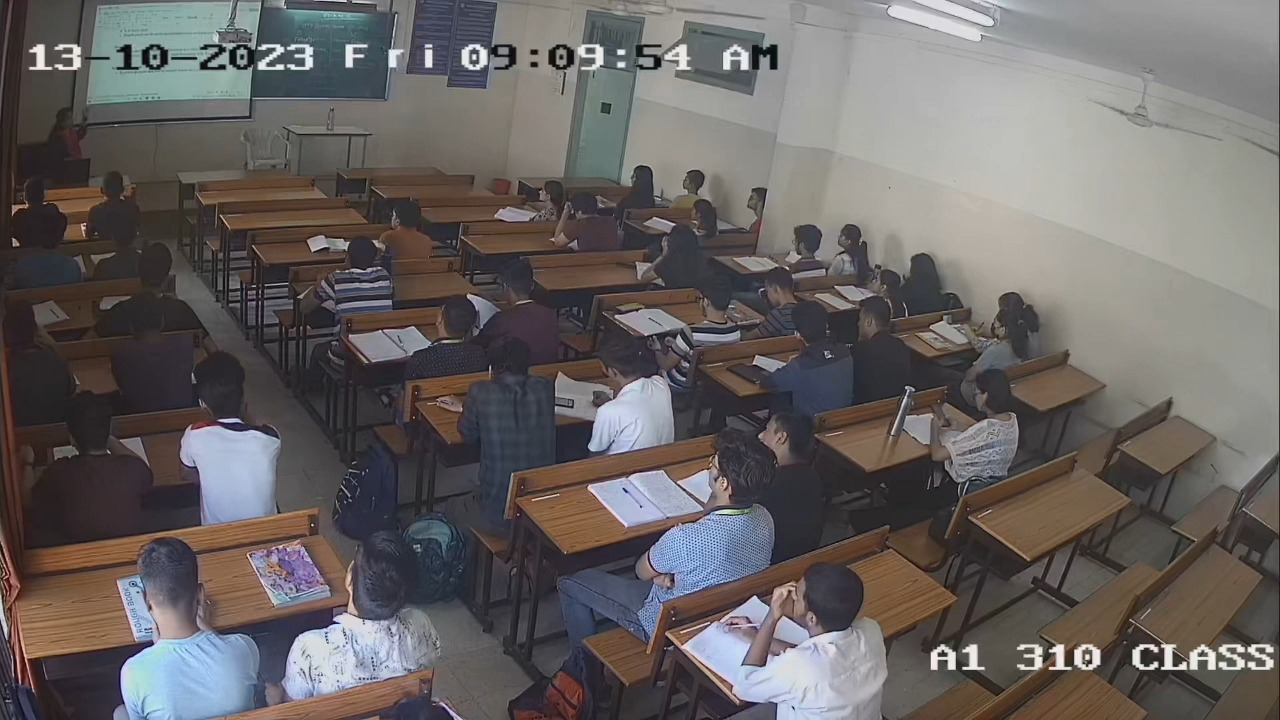cell-phones: (930, 399, 951, 427), (33, 440, 49, 468), (615, 300, 646, 314), (553, 394, 574, 409), (941, 311, 955, 326)
person: (33, 396, 152, 530), (922, 368, 1019, 484), (582, 335, 675, 454), (656, 274, 741, 365), (951, 304, 1025, 363)
